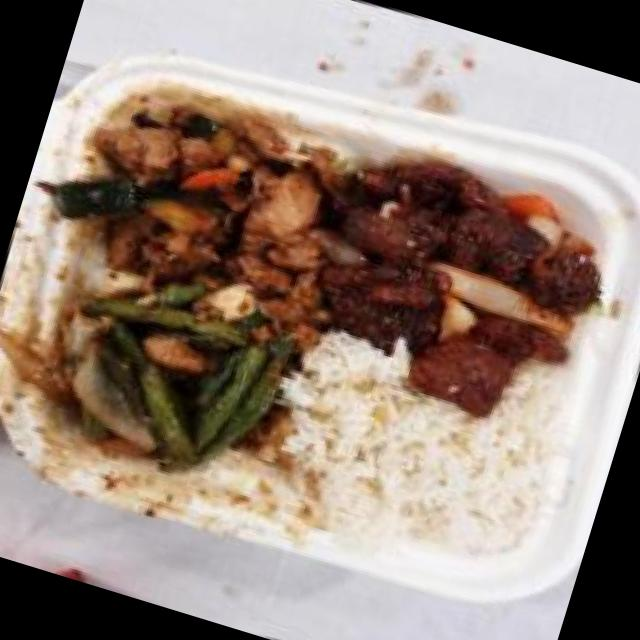Beijing Beef: (283, 117, 632, 440)
Kung Pao Chicken: (26, 48, 372, 340)
String Bean Chicken Breast: (1, 240, 312, 507)
White Steamed Rice: (255, 345, 568, 592)
